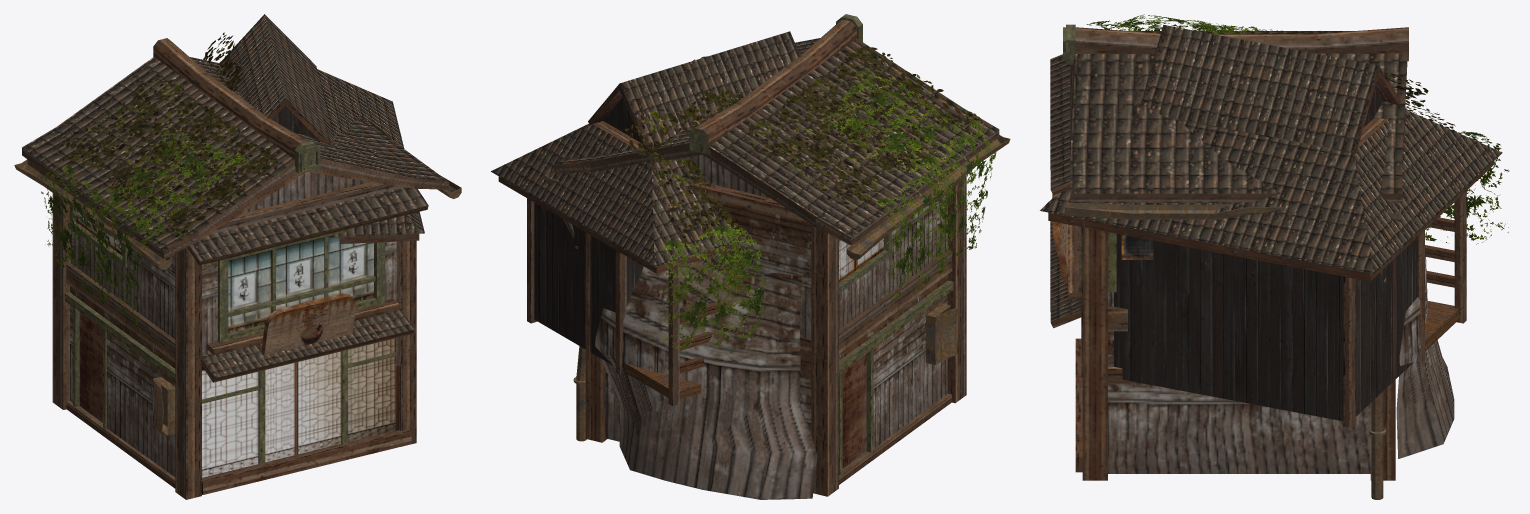
The model's file is Houses0102.fbx.
The picture shows the model from 3 angles, left to right: view 1: azimuth 30°, elevation 25°; view 2: azimuth 150°, elevation 25°; view 3: azimuth 270°, elevation 25°; orthographic projection. The views are drawn at different scales.
Parts seen in each view (by area): view 1: House01, House02, PlantRoof, Plant4, Plant, Plant2, Plant3, PlantRoof.001; view 2: House01, House02, PlantRoof, Plant4, PlantRoof.001, Plant, Plant2.001, Plant2, Plant3, Plant.001; view 3: House02, House01, Plant2.001, Plant, PlantRoof.001.
Boxes of the visible parts, x1,y1,x2,y2 form: House01: [14, 38, 461, 499]; House02: [219, 14, 424, 365]; PlantRoof: [54, 76, 221, 196]; Plant4: [110, 117, 277, 238]; Plant: [104, 130, 247, 234]; Plant2: [41, 164, 120, 307]; Plant3: [90, 192, 165, 332]; PlantRoof.001: [203, 32, 242, 91]; House01: [544, 14, 1010, 499]; House02: [491, 31, 800, 406]; PlantRoof: [744, 90, 921, 213]; Plant4: [802, 47, 979, 170]; PlantRoof.001: [624, 88, 743, 244]; Plant: [821, 70, 976, 173]; Plant2.001: [659, 223, 755, 352]; Plant2: [876, 160, 954, 301]; Plant3: [922, 120, 996, 266]; Plant.001: [712, 225, 765, 341]; House02: [1040, 25, 1502, 428]; House01: [1050, 24, 1454, 499]; Plant2.001: [1425, 131, 1509, 244]; Plant: [1110, 14, 1257, 33]; PlantRoof.001: [1385, 73, 1461, 133].
Size of the model in its own units: 808 by 736 by 773.
Materials: 4 (4 with a texture image).
